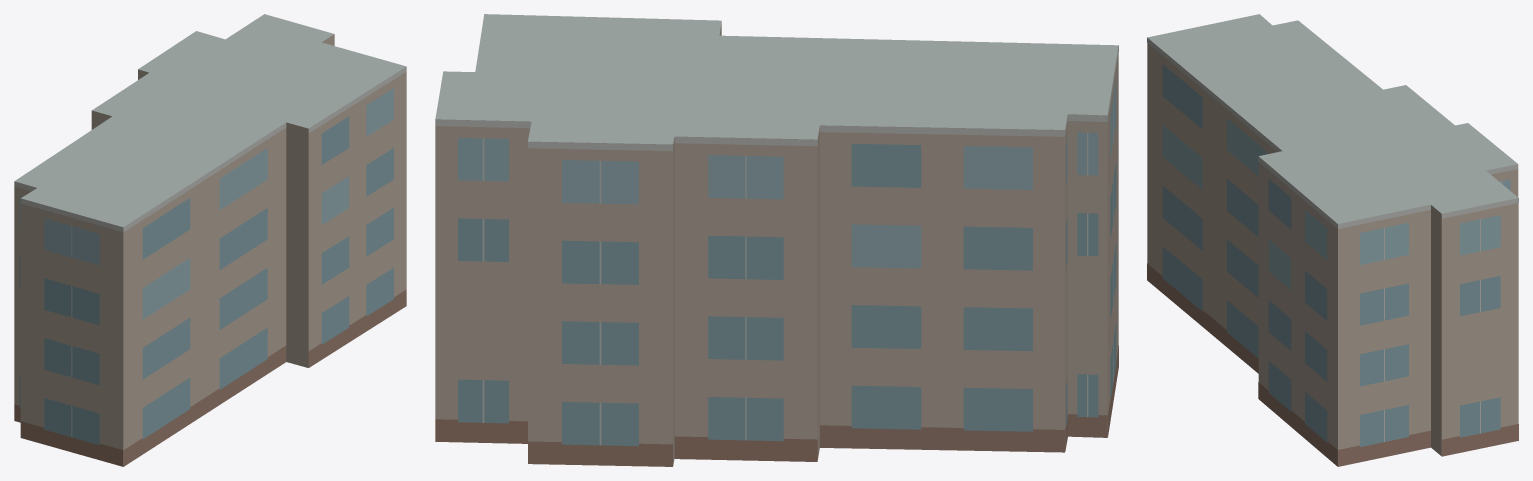
File: survey-upis-32700750.glb
The picture shows the model from 3 angles, left to right: view 1: azimuth 30°, elevation 25°; view 2: azimuth 150°, elevation 25°; view 3: azimuth 270°, elevation 25°; orthographic projection. The views are drawn at different scales.
Parts seen in each view (by area): view 1: survey-upis-32700750.tmp; view 2: survey-upis-32700750.tmp; view 3: survey-upis-32700750.tmp.
Boxes of the visible parts, x1,y1,x2,y2 form: survey-upis-32700750.tmp: (14, 14, 406, 466); survey-upis-32700750.tmp: (435, 14, 1118, 466); survey-upis-32700750.tmp: (1147, 14, 1518, 466).
Bounding box in the file's own units: 21.71 × 11.7 × 16.24.
